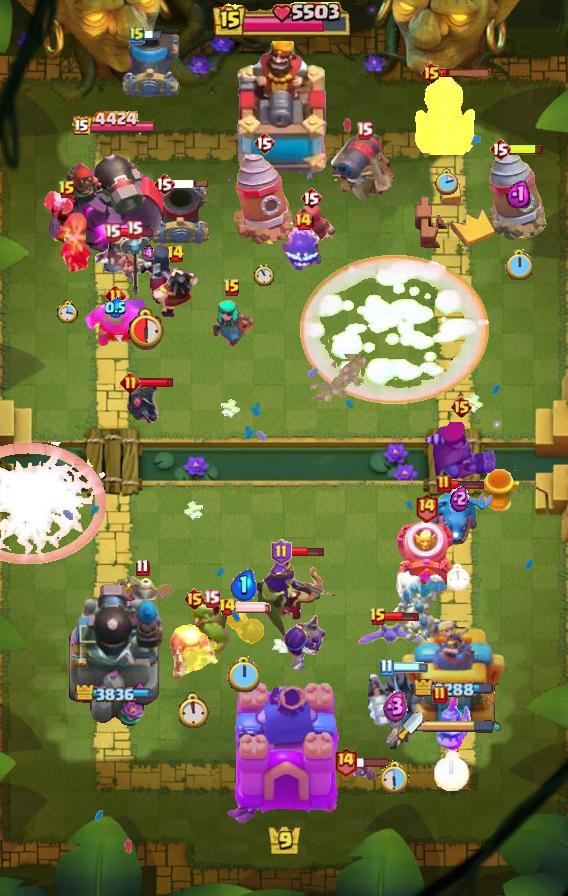bar: (440, 68, 492, 79), (509, 143, 545, 156), (234, 601, 272, 613), (355, 756, 391, 768), (450, 478, 485, 490), (119, 226, 154, 238), (138, 377, 175, 388), (392, 662, 428, 673), (384, 611, 420, 622), (289, 546, 325, 557), (173, 179, 209, 189), (143, 30, 162, 41)
bar-level: (333, 746, 358, 777), (414, 492, 439, 523), (183, 587, 206, 611), (450, 395, 473, 419), (420, 61, 443, 85), (271, 539, 292, 565), (300, 186, 322, 210), (153, 172, 175, 196), (489, 137, 511, 161), (253, 131, 275, 155), (120, 372, 141, 393), (105, 285, 126, 306), (293, 211, 313, 231), (218, 597, 237, 617), (166, 244, 185, 264), (369, 607, 387, 627), (223, 278, 241, 298), (58, 180, 76, 200), (203, 589, 220, 608), (104, 223, 121, 242), (126, 220, 143, 239), (356, 121, 373, 140), (432, 685, 448, 705), (436, 474, 452, 494), (129, 25, 145, 45), (379, 658, 394, 677), (135, 558, 150, 577)
bat: (350, 761, 376, 780)
bat-evolution: (355, 621, 425, 647)
bomber: (221, 603, 265, 645)
bomber-evolution: (284, 607, 328, 673)
cannoneer-tower: (63, 579, 165, 731), (64, 138, 164, 256)
clock: (128, 306, 168, 350), (434, 750, 470, 791), (227, 656, 259, 692), (379, 760, 411, 795), (179, 692, 210, 728), (505, 249, 532, 280), (447, 563, 471, 591), (434, 168, 458, 195), (57, 300, 78, 323), (254, 264, 274, 286)
dagger-duchess-tower: (401, 615, 506, 731)
dagger-duchess-tower-bar: (423, 719, 495, 733)
dirt: (305, 354, 366, 401)
electro-dragon: (423, 485, 495, 547)
electro-spirit: (279, 224, 327, 270)
electro-wizard: (149, 266, 201, 320)
elixir: (230, 569, 257, 601), (383, 690, 408, 724), (506, 179, 530, 208), (450, 485, 469, 512), (105, 297, 126, 318), (142, 245, 154, 263)
elixir-golem-mid: (83, 298, 147, 348)
goblin-brawler: (189, 598, 233, 654)
guard: (431, 694, 473, 752)
hunter: (423, 421, 499, 481)
king-tower: (222, 680, 346, 826), (228, 41, 340, 181)
king-tower-bar: (213, 2, 355, 40)
miner: (110, 573, 174, 627)
mini-pekka: (124, 378, 162, 428)
mortar: (149, 180, 211, 248), (120, 33, 180, 97)
mortar-evolution: (394, 519, 458, 589)
night-witch: (117, 235, 179, 307), (42, 190, 92, 276)
princess: (94, 236, 156, 288)
rascal-girl: (210, 299, 254, 349)
tesla: (415, 71, 477, 155)
tower-bar: (71, 110, 157, 138), (414, 679, 493, 700), (75, 685, 154, 702)
wizard: (167, 613, 221, 683), (285, 202, 337, 250)
